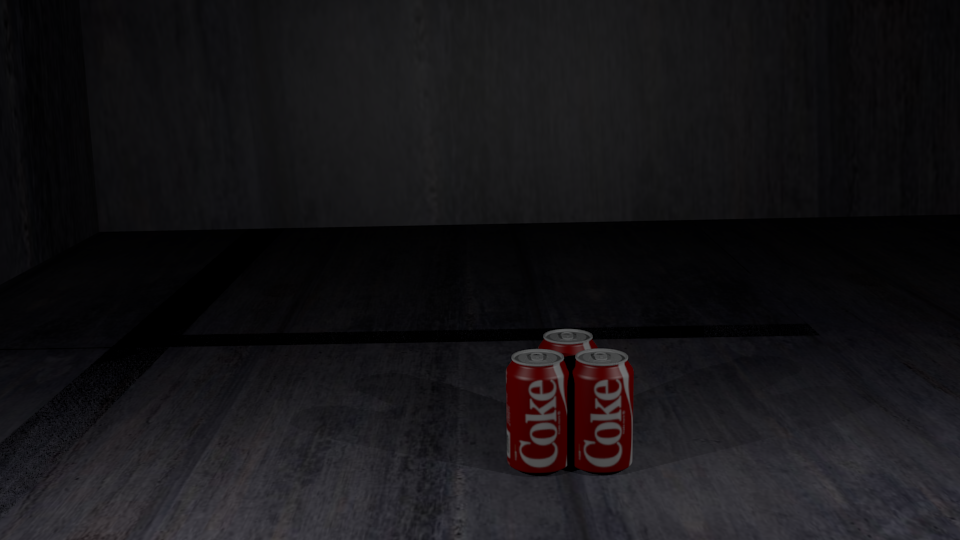cola_can: (506, 349, 569, 470), (570, 349, 633, 468), (539, 329, 597, 443)
